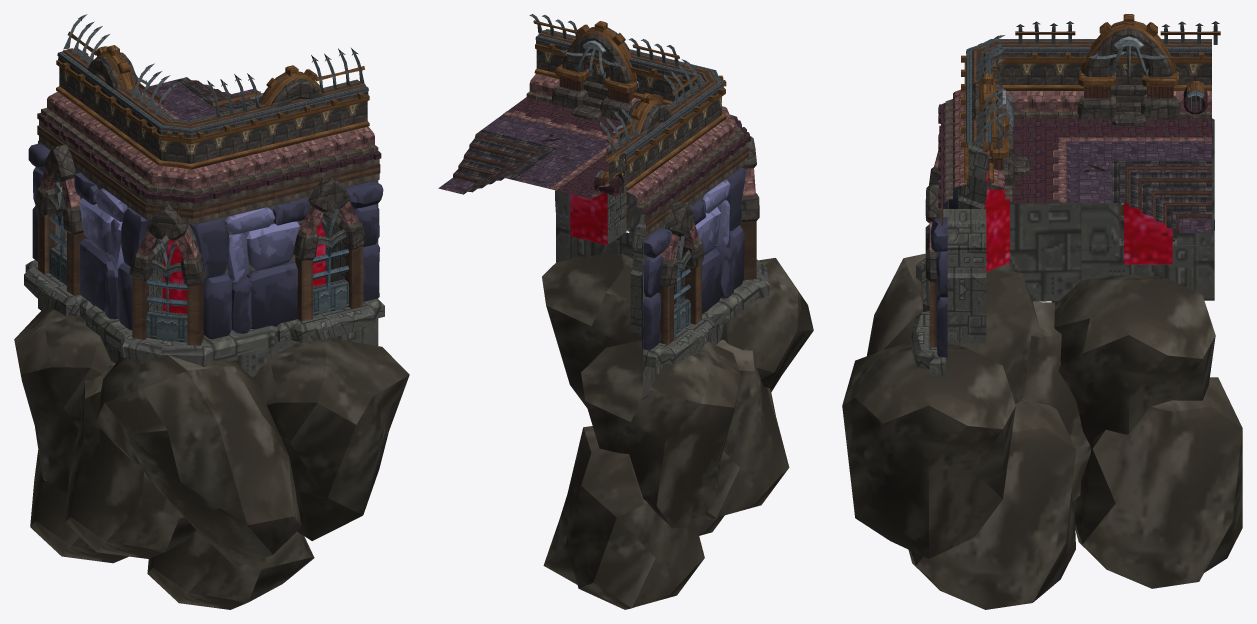
File: Room_Corner_16_B.fbx
3 views of the same model, side by side, from view 1: azimuth 30°, elevation 25°; view 2: azimuth 150°, elevation 25°; view 3: azimuth 270°, elevation 25° (orthographic). The views are drawn at different scales.
Visible parts, largest first — view 1: Room_Corner_16_B; view 2: Room_Corner_16_B; view 3: Room_Corner_16_B.
Part boxes in pixels (box(x1,y1,x2,y2)): Room_Corner_16_B: box(14, 14, 409, 609); Room_Corner_16_B: box(438, 14, 813, 609); Room_Corner_16_B: box(842, 14, 1242, 609).
Size of the model in its own units: 2070 by 3719 by 2405.
